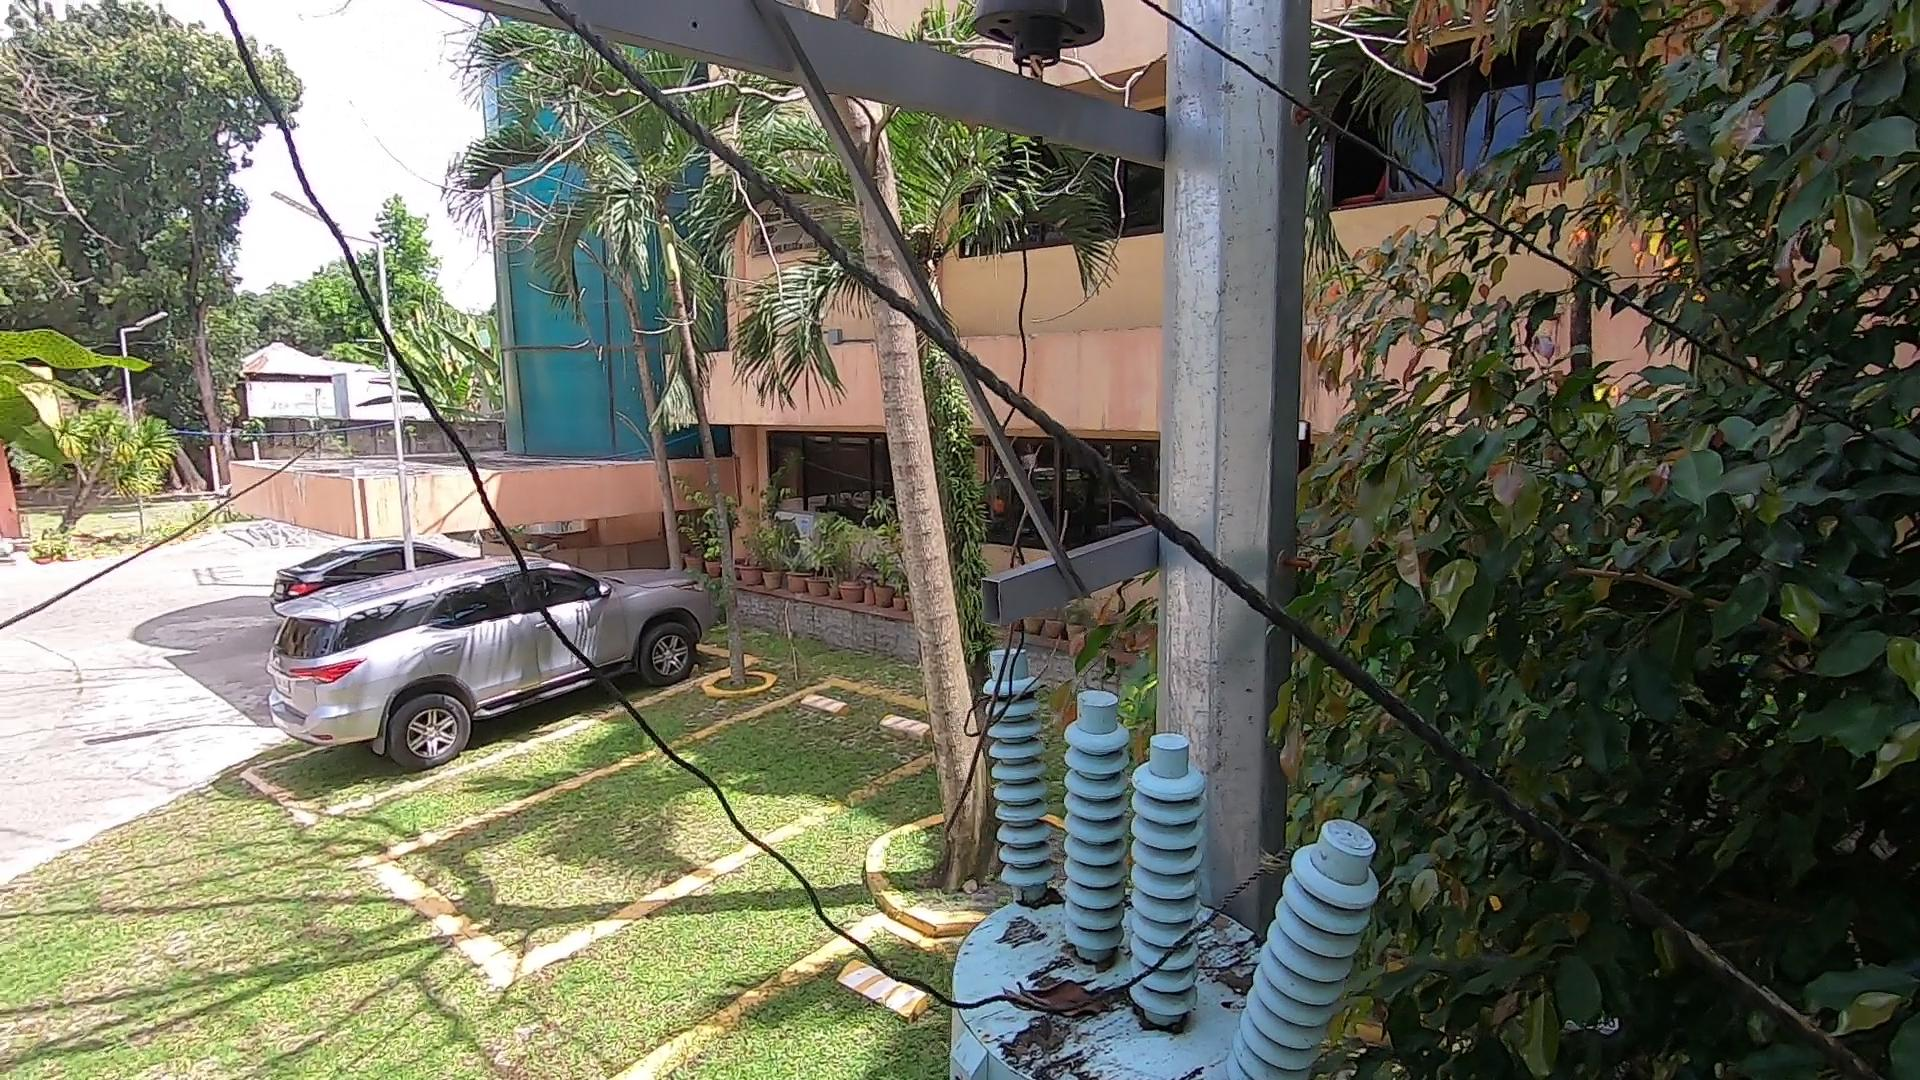leaf: (1006, 952, 1117, 1027), (1208, 955, 1261, 1009), (1010, 887, 1069, 919)
tree branch: (935, 429, 1044, 862)
